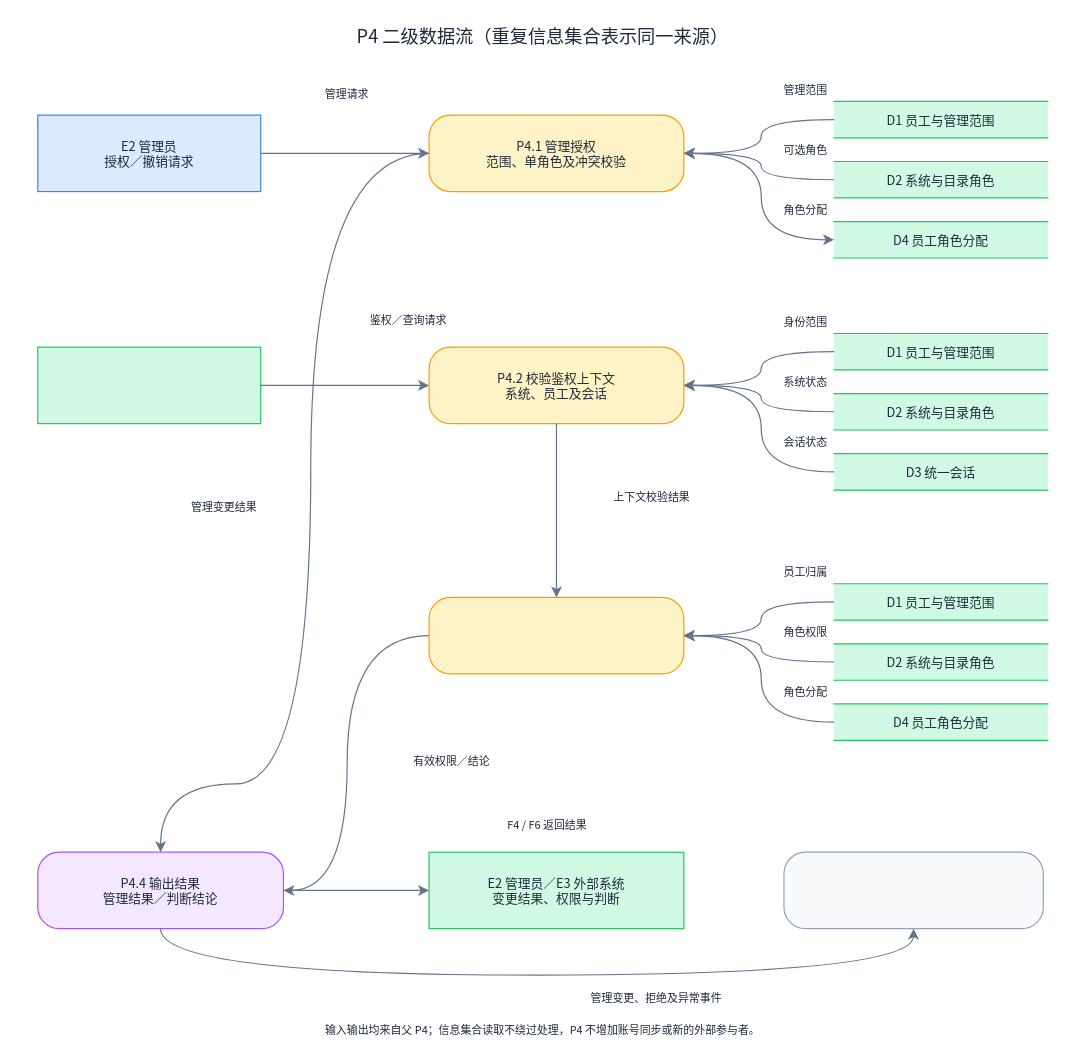
This 1086x1058 diagram has some shape labels left out. The centre of each missing label's shape, as x and y in pixels:
E3 外部系统／E2 管理员 鉴权／有效权限查询: the point at 149,385
P4.3 求有效权限 范围、分配、角色及目录: the point at 556,635
P5 审计查询与统计 管理变更、拒绝、异常: the point at 913,890
